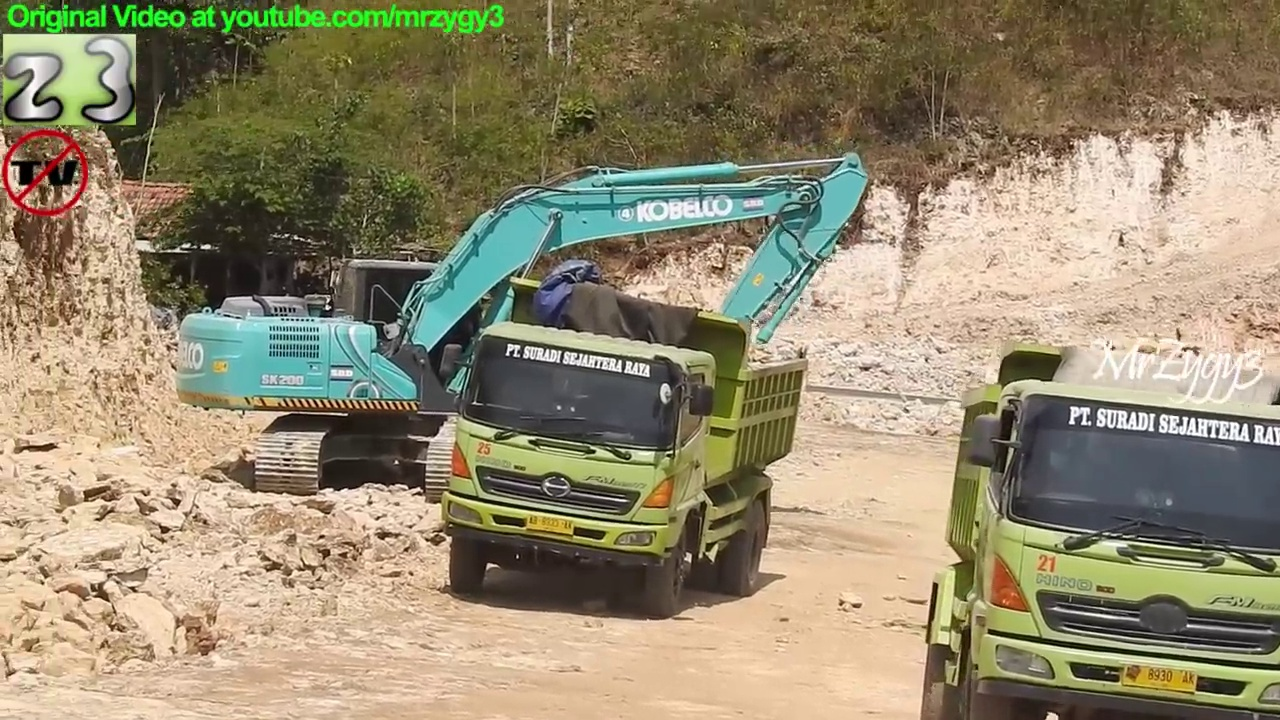excavator: (168, 144, 877, 513)
truck: (915, 337, 1280, 720), (433, 268, 815, 626)
